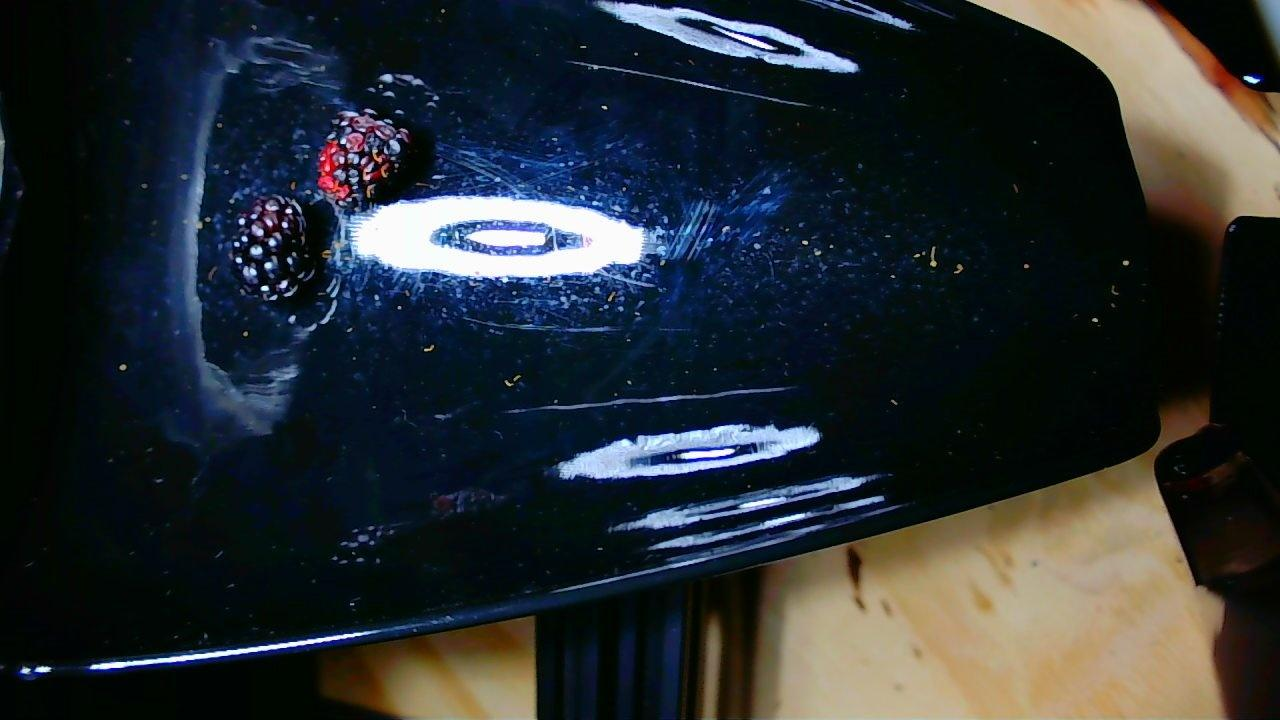berry: (317, 109, 413, 210), (230, 196, 316, 300)
